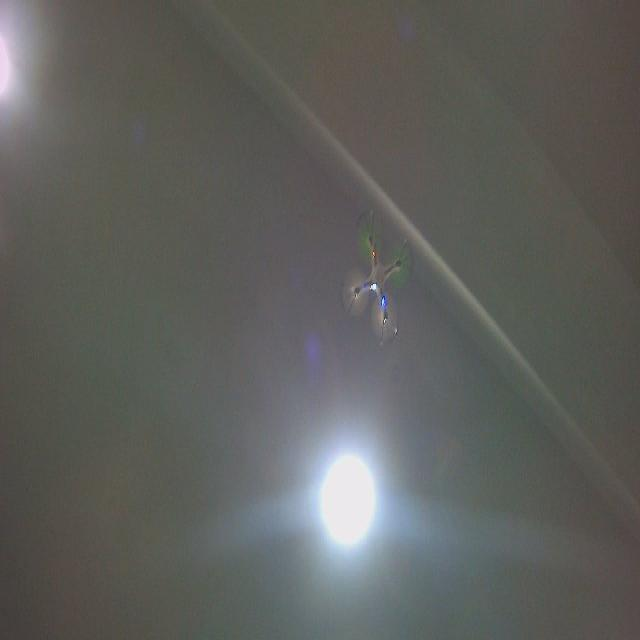drone: (334, 206, 416, 350)
